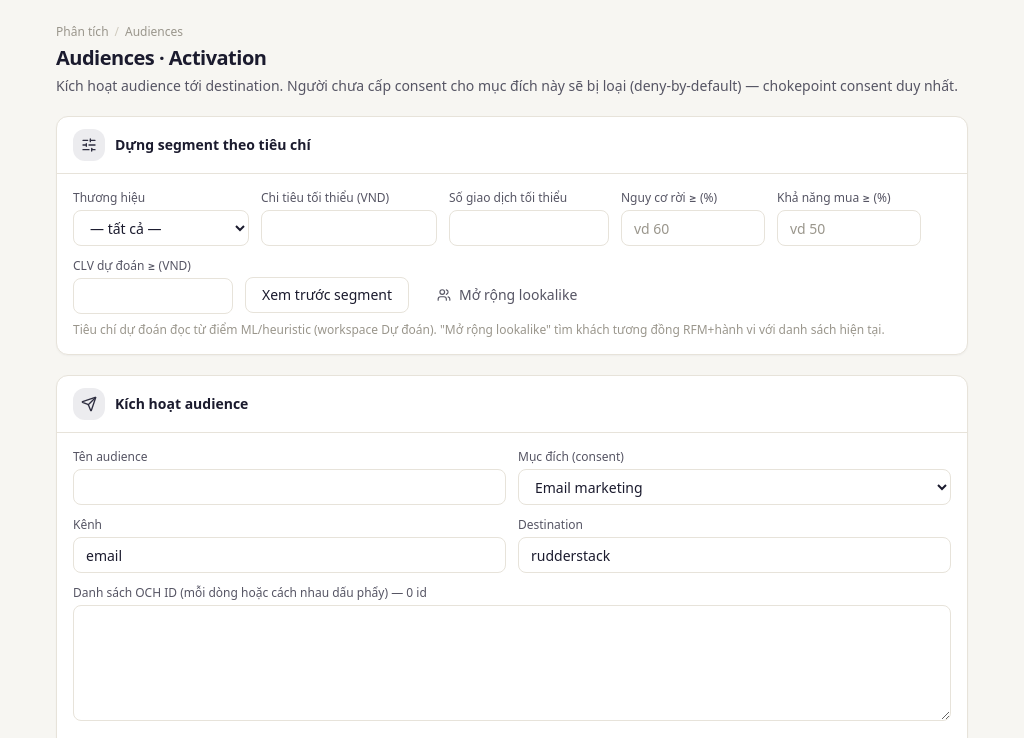
Scenario: AudiencesScreen — activation consent-gated › xem trước segment điền danh sách och id vào textarea
This screenshot has width=1024, height=738.
Type "250000" into the field named "chi tiêu tối thiểu" at (349, 228), box [261,210,437,246]
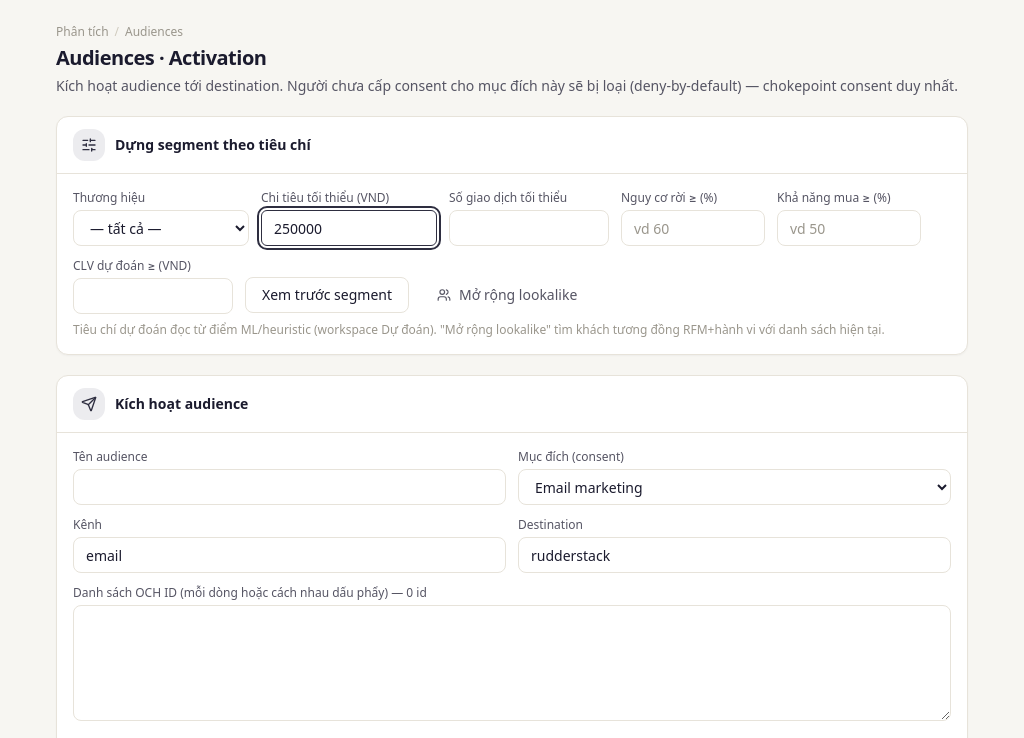
Click the button "Xem trước segment" at (327, 295), box [245,277,409,313]
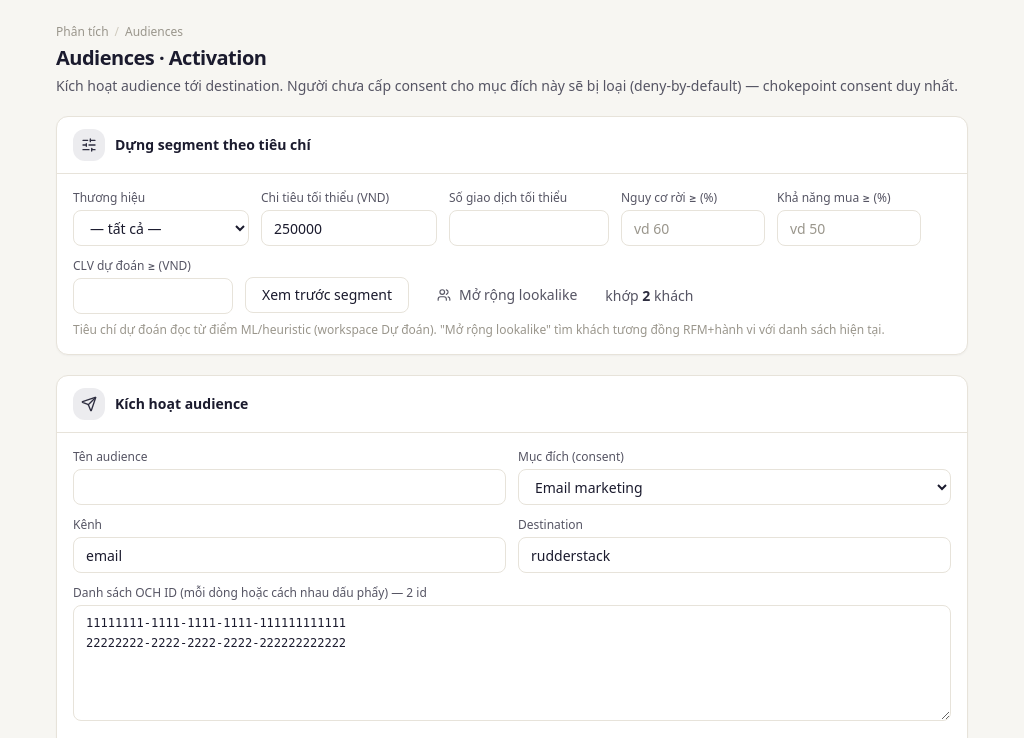
Result: the text with test id "segment-count" reads "2" at [642,286,650,305]
